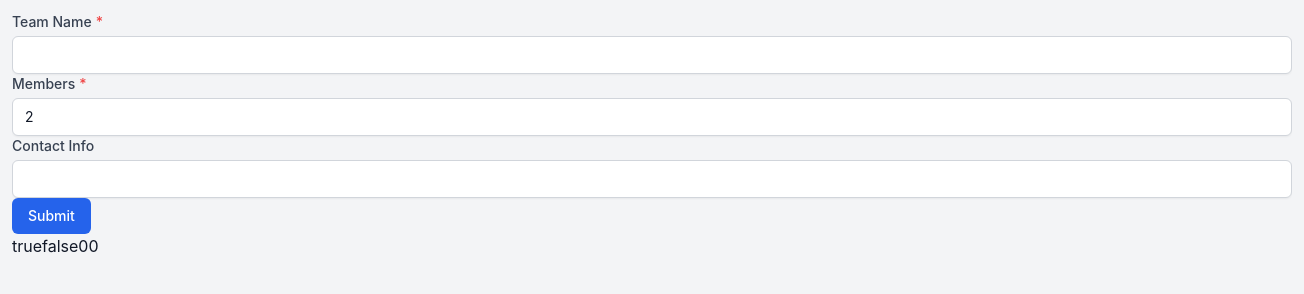
Scenario: Form Validation › Basic Validation › should validate required fields
The image size is (1304, 294).
# Try to submit without filling required fields
Click the button with test id "submit-button" at (51, 216), box [12,198,91,234]
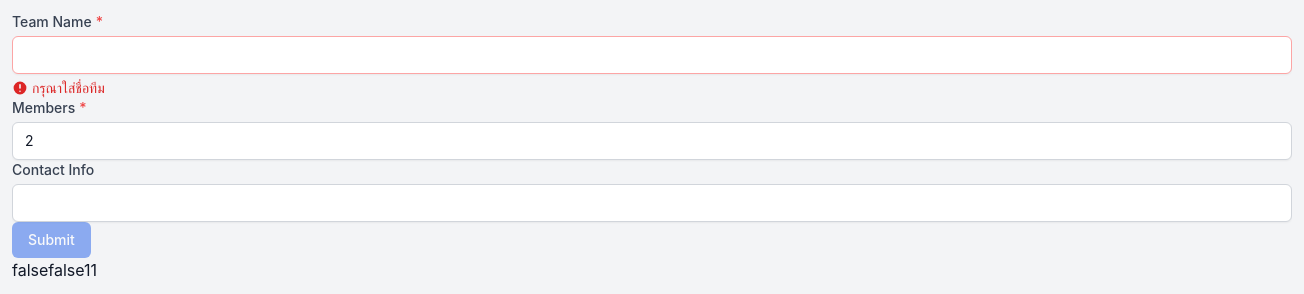
Expected: the text "กรุณาใส่ชื่อทีม" is shown, [12,79,105,96]
# Fill the required field
Type "Test Team" into the field with test id "name-input" at (652, 55), box [12,36,1292,74]
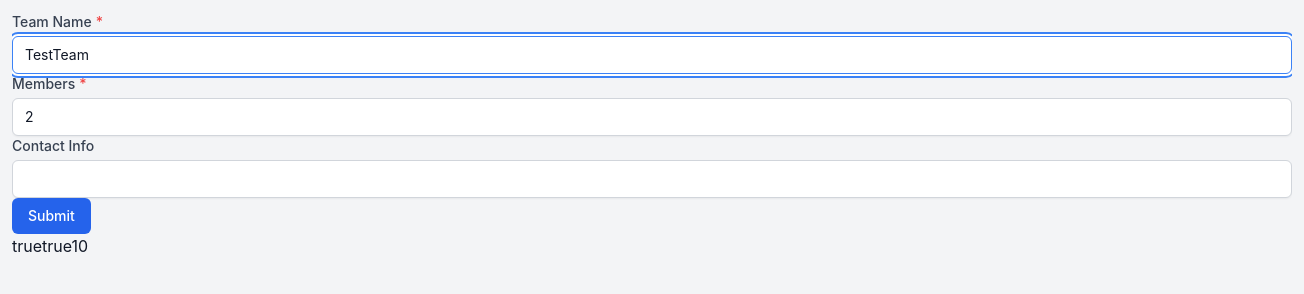
Expected: the text "กรุณาใส่ชื่อทีม" is gone
